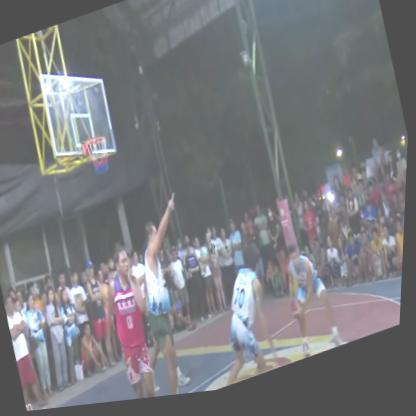basketball: (289, 300, 313, 333)
rim: (75, 122, 124, 192)
